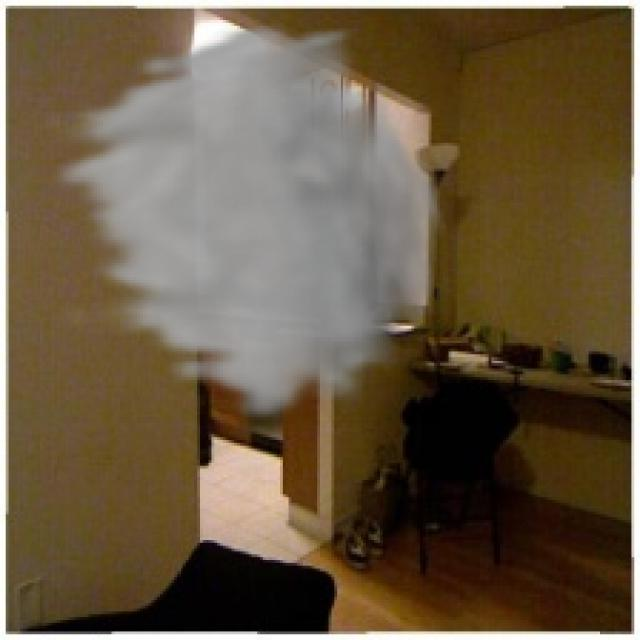smoke: (40, 20, 451, 426)
